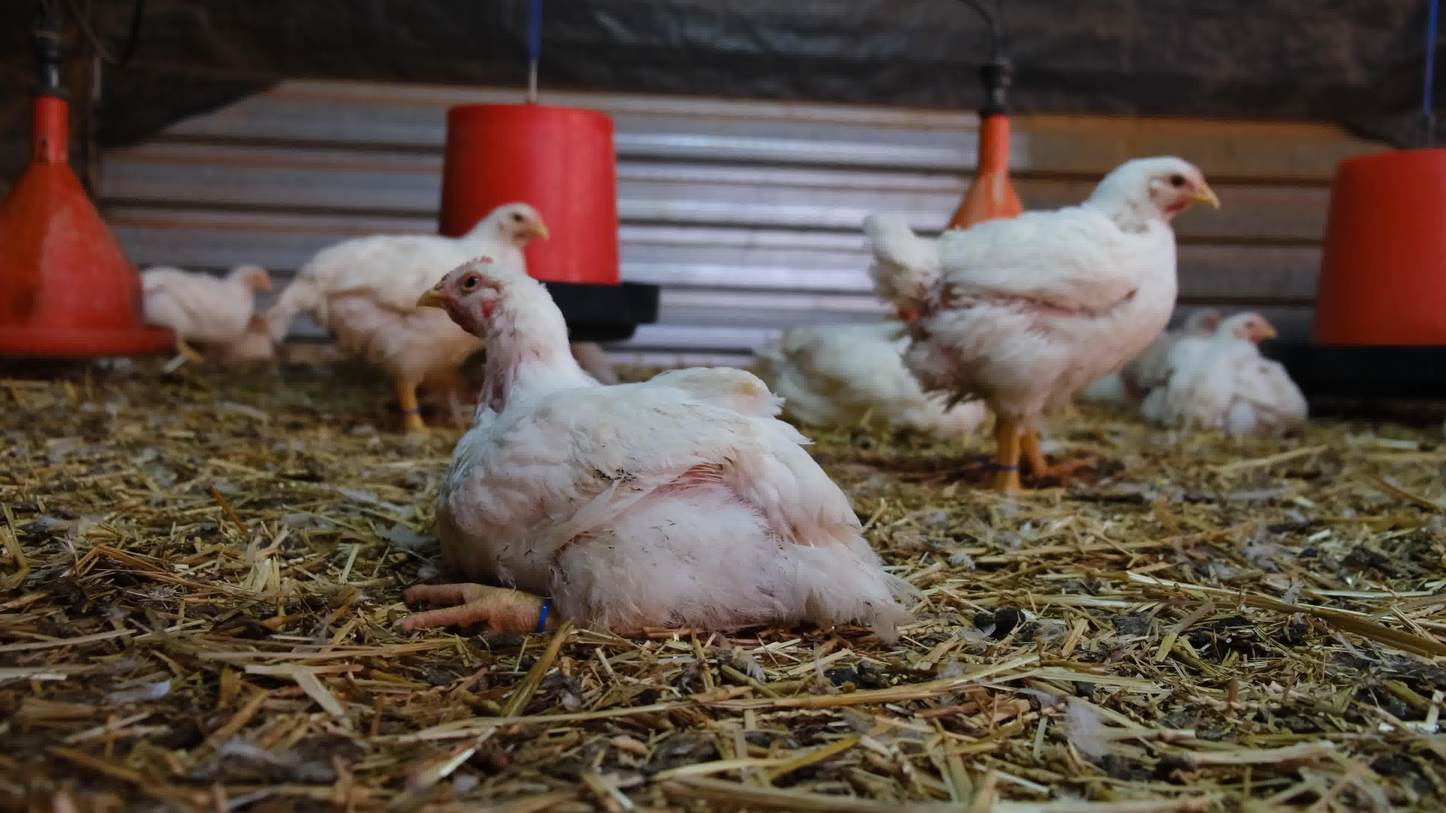AbNormal: (392, 256, 928, 649), (742, 305, 1009, 452), (1184, 314, 1329, 446), (1152, 286, 1241, 406), (235, 316, 294, 373)
Normal: (855, 145, 1218, 493), (286, 198, 554, 431), (130, 250, 275, 361)
